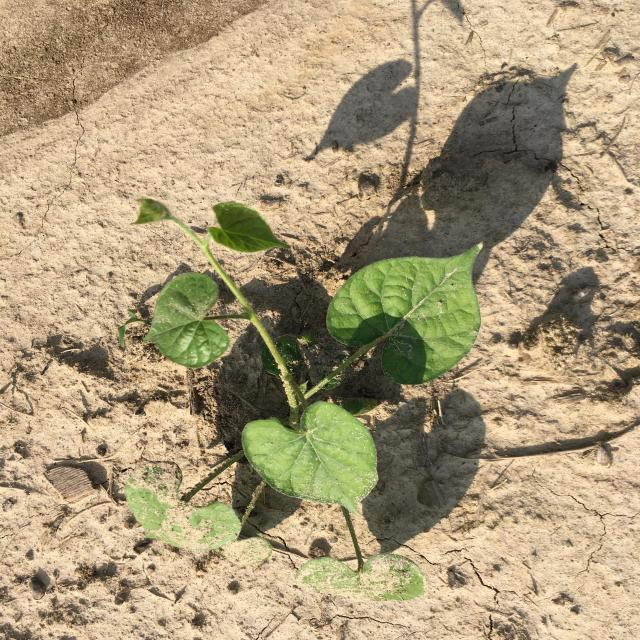MorningGlory: (123, 199, 483, 602)
